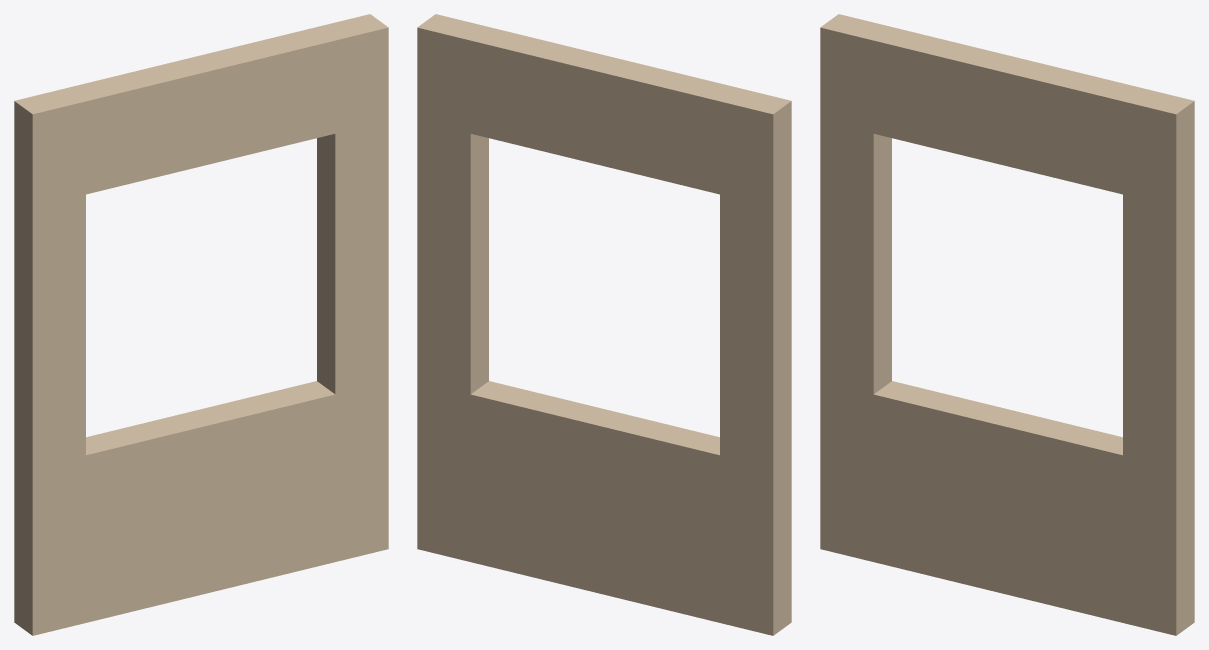
File: SM_Wall_Window_2m_Cream.fbx
3 views of the same model, side by side, from view 1: azimuth 30°, elevation 25°; view 2: azimuth 150°, elevation 25°; view 3: azimuth 330°, elevation 25° (orthographic).
Parts seen in each view (by area): view 1: SM_Wall_Window_2m_Cream; view 2: SM_Wall_Window_2m_Cream; view 3: SM_Wall_Window_2m_Cream.
Boxes of the visible parts, x1,y1,x2,y2 form: SM_Wall_Window_2m_Cream: [14, 14, 388, 635]; SM_Wall_Window_2m_Cream: [417, 14, 791, 635]; SM_Wall_Window_2m_Cream: [820, 14, 1194, 635].
Size of the model in its own units: 2 by 0.18 by 2.8.
